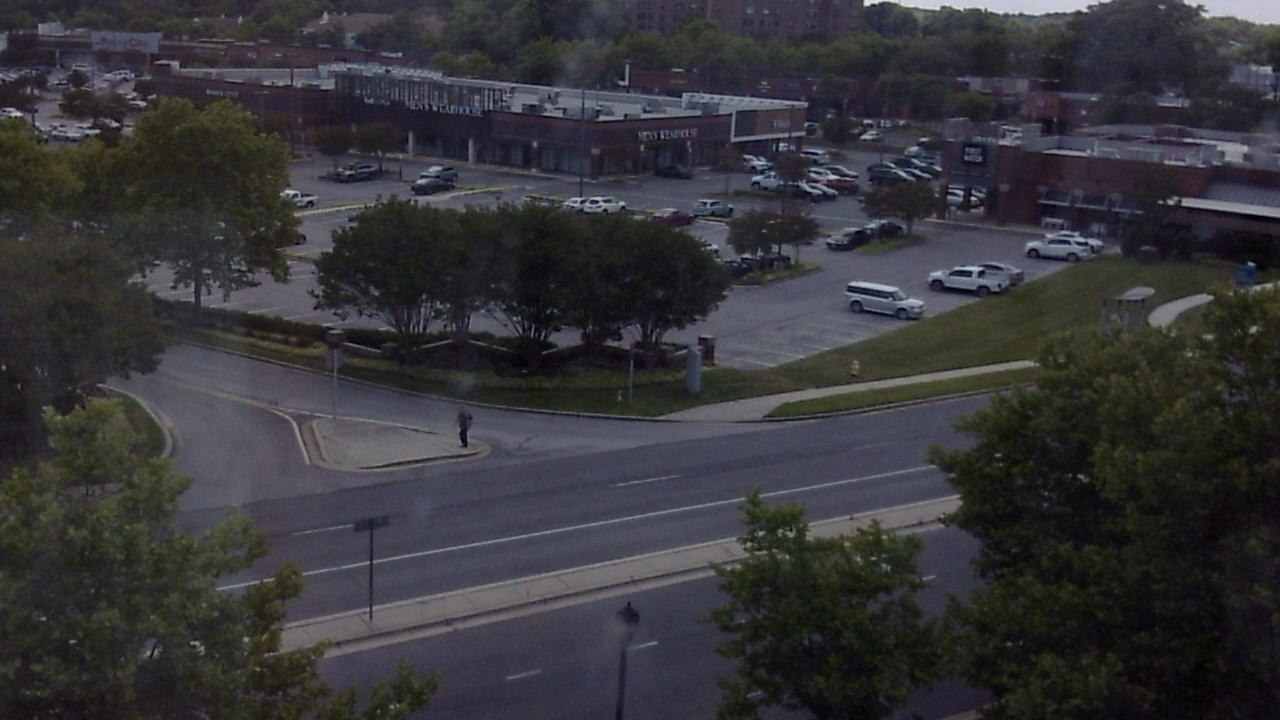Person: (456, 404, 485, 461)
